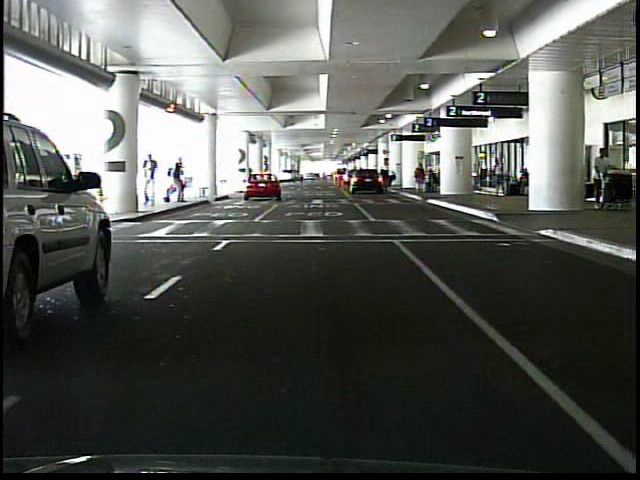person: (143, 153, 159, 208), (162, 170, 187, 205), (168, 159, 184, 203), (593, 145, 612, 175), (411, 163, 426, 195), (492, 160, 504, 198), (431, 167, 432, 193)
